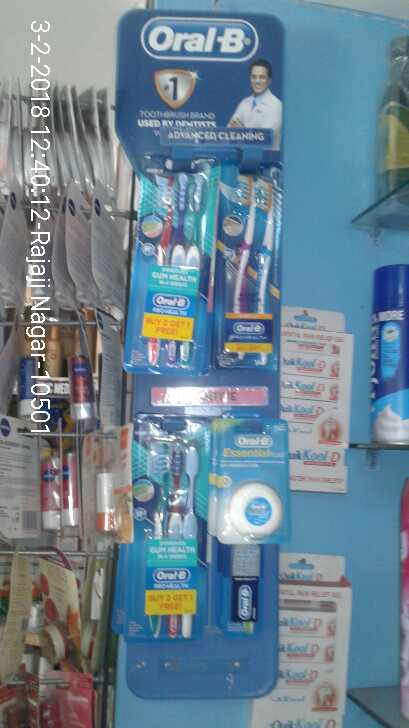oralb: (135, 419, 205, 645), (132, 172, 206, 365), (213, 413, 294, 548), (224, 164, 271, 363)
